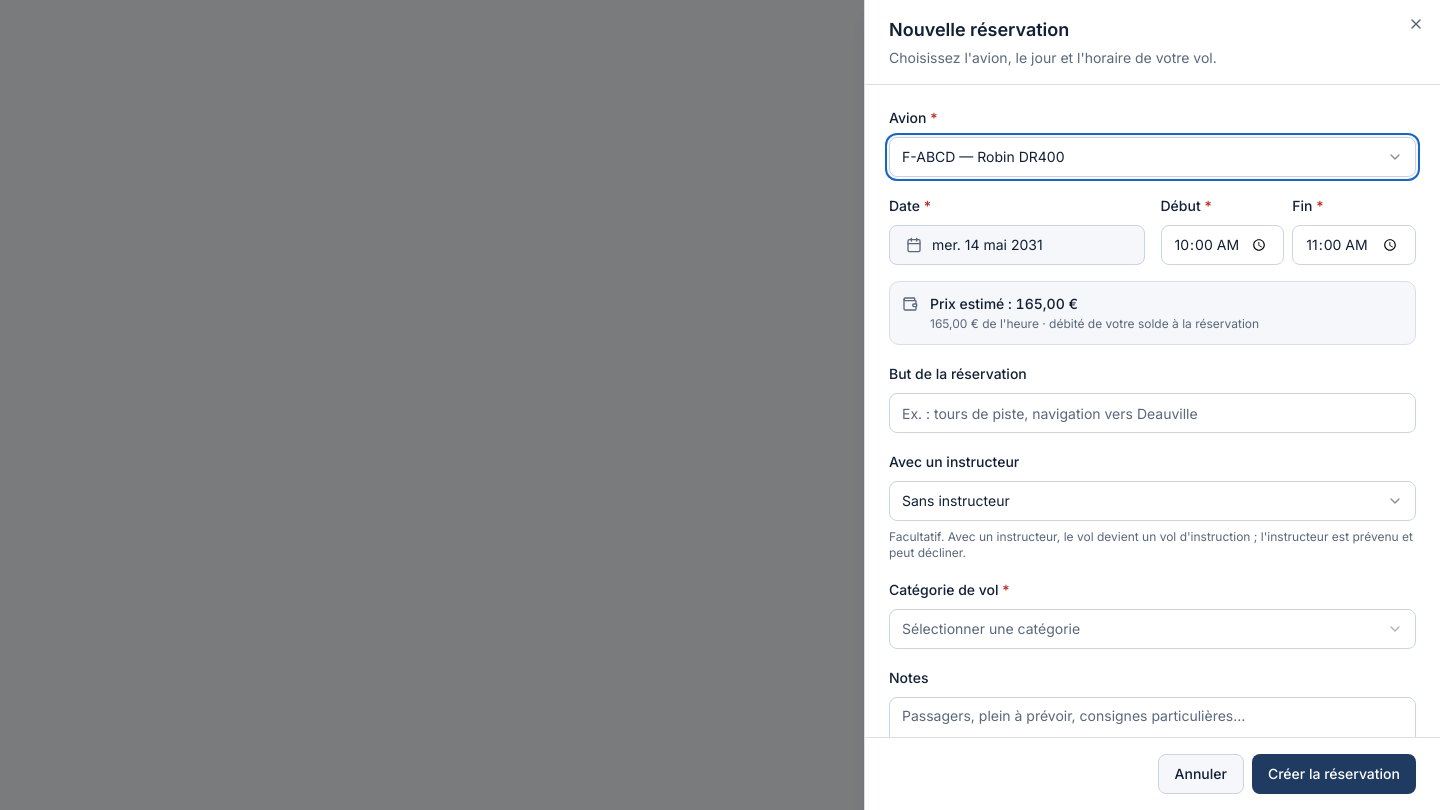
Test: Réserver avec un instructeur › ne propose pas au membre d'être son propre instructeur
What coordinates should you click on to do the following:
click the dropdown named "Avec un instructeur"
I would click on:
 (956, 500)
Its box is [889,481,1416,521].
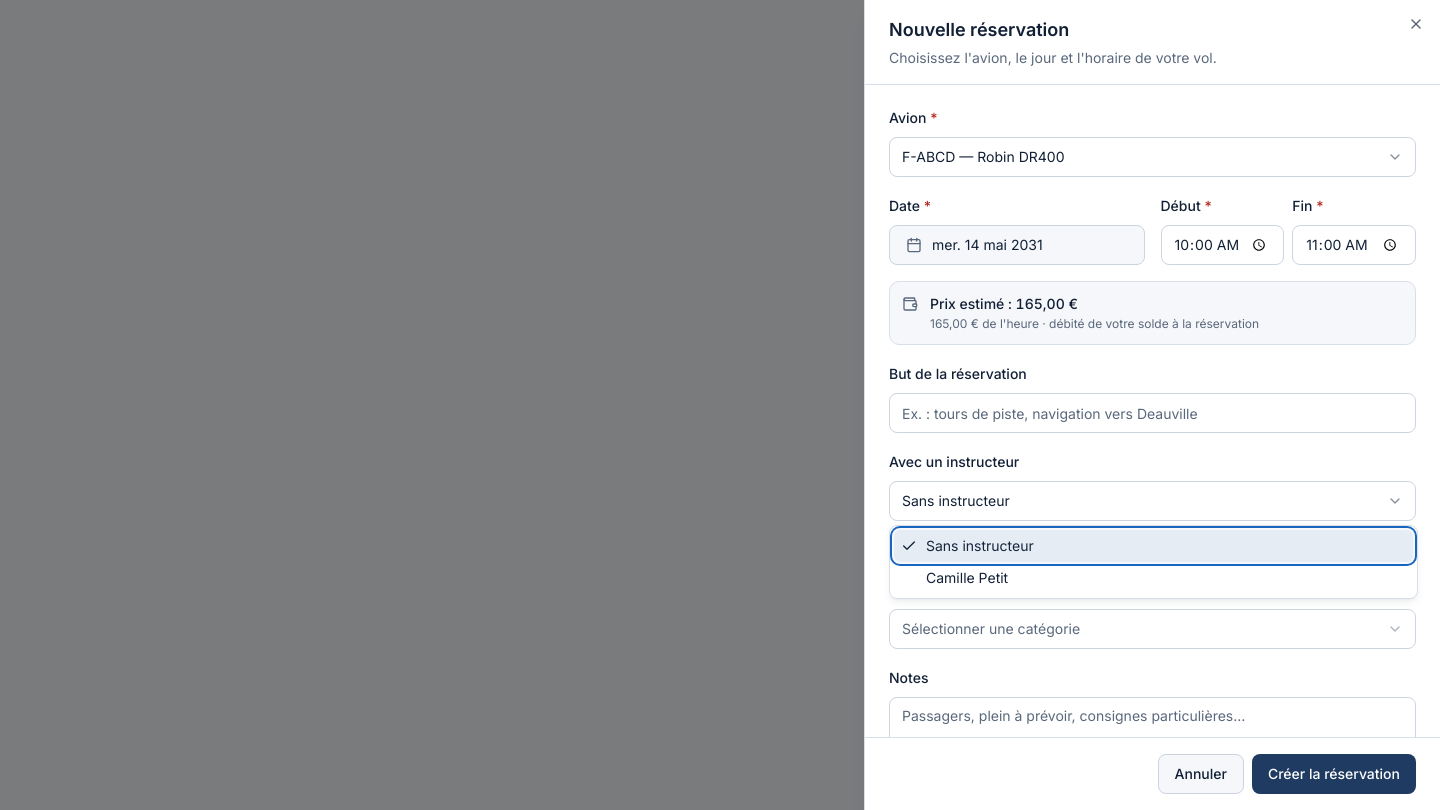
Expected: the option "Camille Petit" is shown, [926,569,1008,586]
